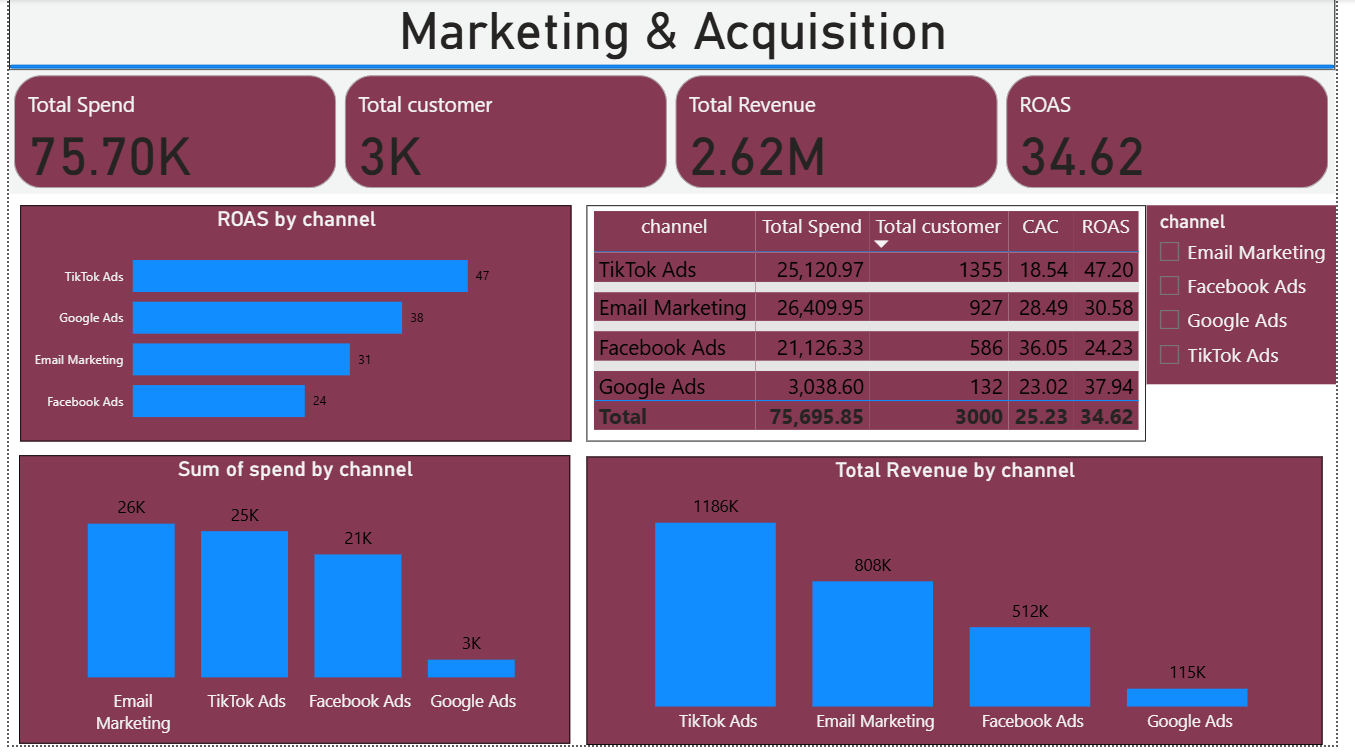

The page's visual inventory and layout, read from the dashboard file:
{"tool":"powerbi","page":{"name":"Page 1","canvas":[1280,720],"ordinal":0},"visuals":[{"type":"columnChart","fields":{"Category":["campaigns.channel"],"Y":["Sum(campaigns.spend)"]},"box":[10.1,440.2,532.3,278.8],"z":0},{"type":"columnChart","title":"Total Revenue by channel","fields":{"Category":["campaigns.channel"],"Y":["Sum(orders.revenue)"]},"box":[557.5,441.5,710.1,278.8],"z":1000},{"type":"shape","title":"Marketing & Acquisition","box":[0,0,1280.3,68.6],"z":2000},{"type":"cardVisual","fields":{"Data":["measure.Total Spend","measure.Total customer","measure.Total Revenue","measure.ROAS"]},"box":[0,68.6,1280.3,119.4],"z":3000},{"type":"barChart","fields":{"Category":["campaigns.channel"],"Y":["measure.ROAS"]},"box":[10.6,199.5,532.1,228.2],"z":4000},{"type":"tableEx","fields":{"Values":["campaigns.channel","measure.Total Spend","measure.Total customer","measure.CAC","measure.ROAS"]},"box":[557.5,199.3,539.9,228.3],"z":5000},{"type":"slicer","fields":{"Values":["campaigns.channel"]},"box":[1097.4,199.3,182.9,172.8],"z":6000}]}

Visuals, with their boxes in screenshot pixels (x1, y1, x2, y2), scaled from the page's 1280x720 canvas onto the 1355x752 screenshot:
columnChart - campaigns.channel x Sum(campaigns.spend): [left=11, top=460, right=574, bottom=751]
"Total Revenue by channel" columnChart: [left=590, top=461, right=1342, bottom=751]
"Marketing & Acquisition" shape: [left=0, top=0, right=1354, bottom=72]
cardVisual - measure.Total Spend x measure.Total customer: [left=0, top=72, right=1354, bottom=196]
barChart - campaigns.channel x measure.ROAS: [left=11, top=208, right=574, bottom=447]
tableEx - campaigns.channel x measure.Total Spend: [left=590, top=208, right=1162, bottom=447]
slicer - campaigns.channel: [left=1162, top=208, right=1354, bottom=389]
